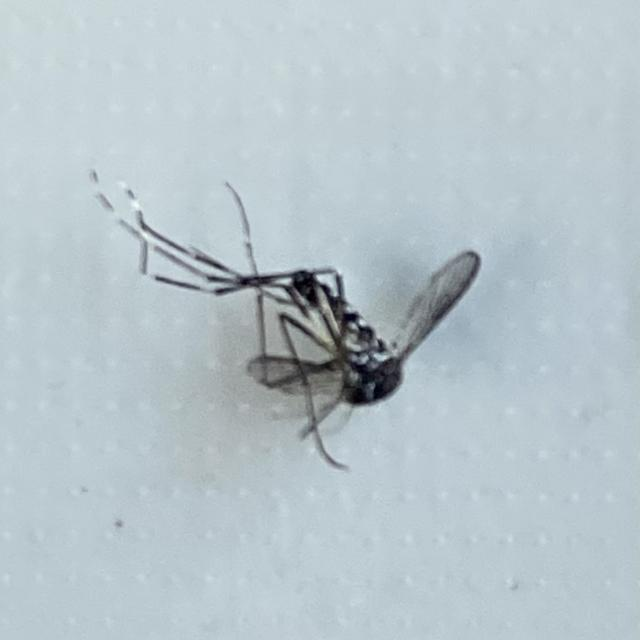albopictus: (71, 150, 477, 476)
